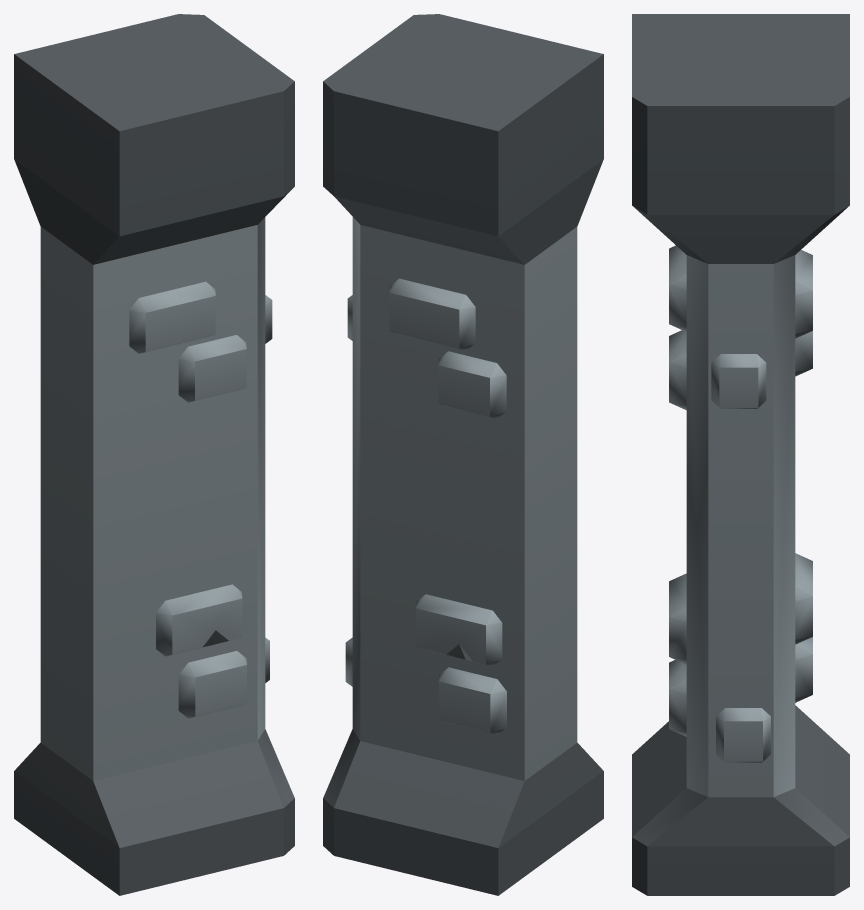
File: wall_endcap.gltf
The picture shows the model from 3 angles, left to right: view 1: azimuth 30°, elevation 25°; view 2: azimuth 150°, elevation 25°; view 3: azimuth 270°, elevation 25°; orthographic projection. The views are drawn at different scales.
Parts seen in each view (by area): view 1: wall_endcap; view 2: wall_endcap; view 3: wall_endcap.
Boxes of the visible parts, x1,y1,x2,y2 form: wall_endcap: (14, 14, 294, 895); wall_endcap: (323, 14, 603, 895); wall_endcap: (632, 14, 849, 895).
Bounding box in the file's own units: 1.07 × 4 × 1.
1 material, 1 textured.
